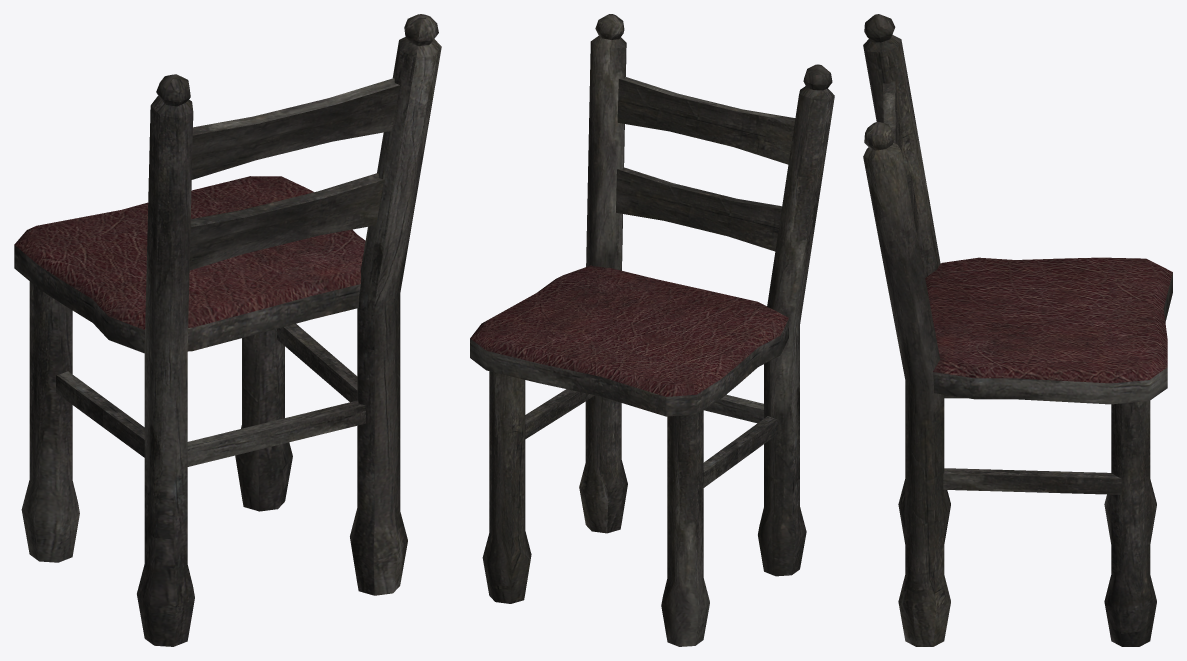
File: dec_29.fbx
3 views of the same model, side by side, from view 1: azimuth 30°, elevation 25°; view 2: azimuth 150°, elevation 25°; view 3: azimuth 270°, elevation 25° (orthographic). The views are drawn at different scales.
Visible parts, largest first — view 1: Mesh Object; view 2: Mesh Object; view 3: Mesh Object.
Boxes of the visible parts, x1,y1,x2,y2 form: Mesh Object: (14, 14, 441, 646); Mesh Object: (470, 14, 834, 646); Mesh Object: (863, 14, 1172, 646).
Bounding box in the file's own units: 0.5313 × 1.03 × 0.5513.
